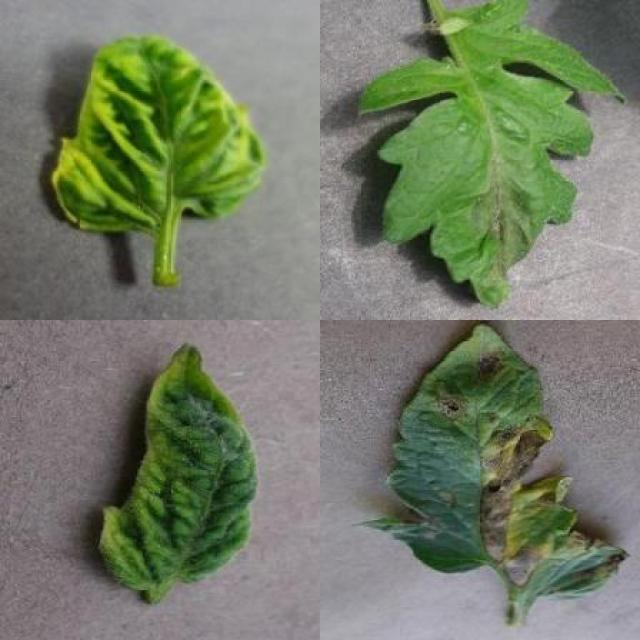Early Blight: (359, 322, 627, 599)
Late Blight: (356, 0, 623, 304)
Yellow Leaf Curl Virus: (50, 36, 264, 236), (100, 339, 256, 595)
